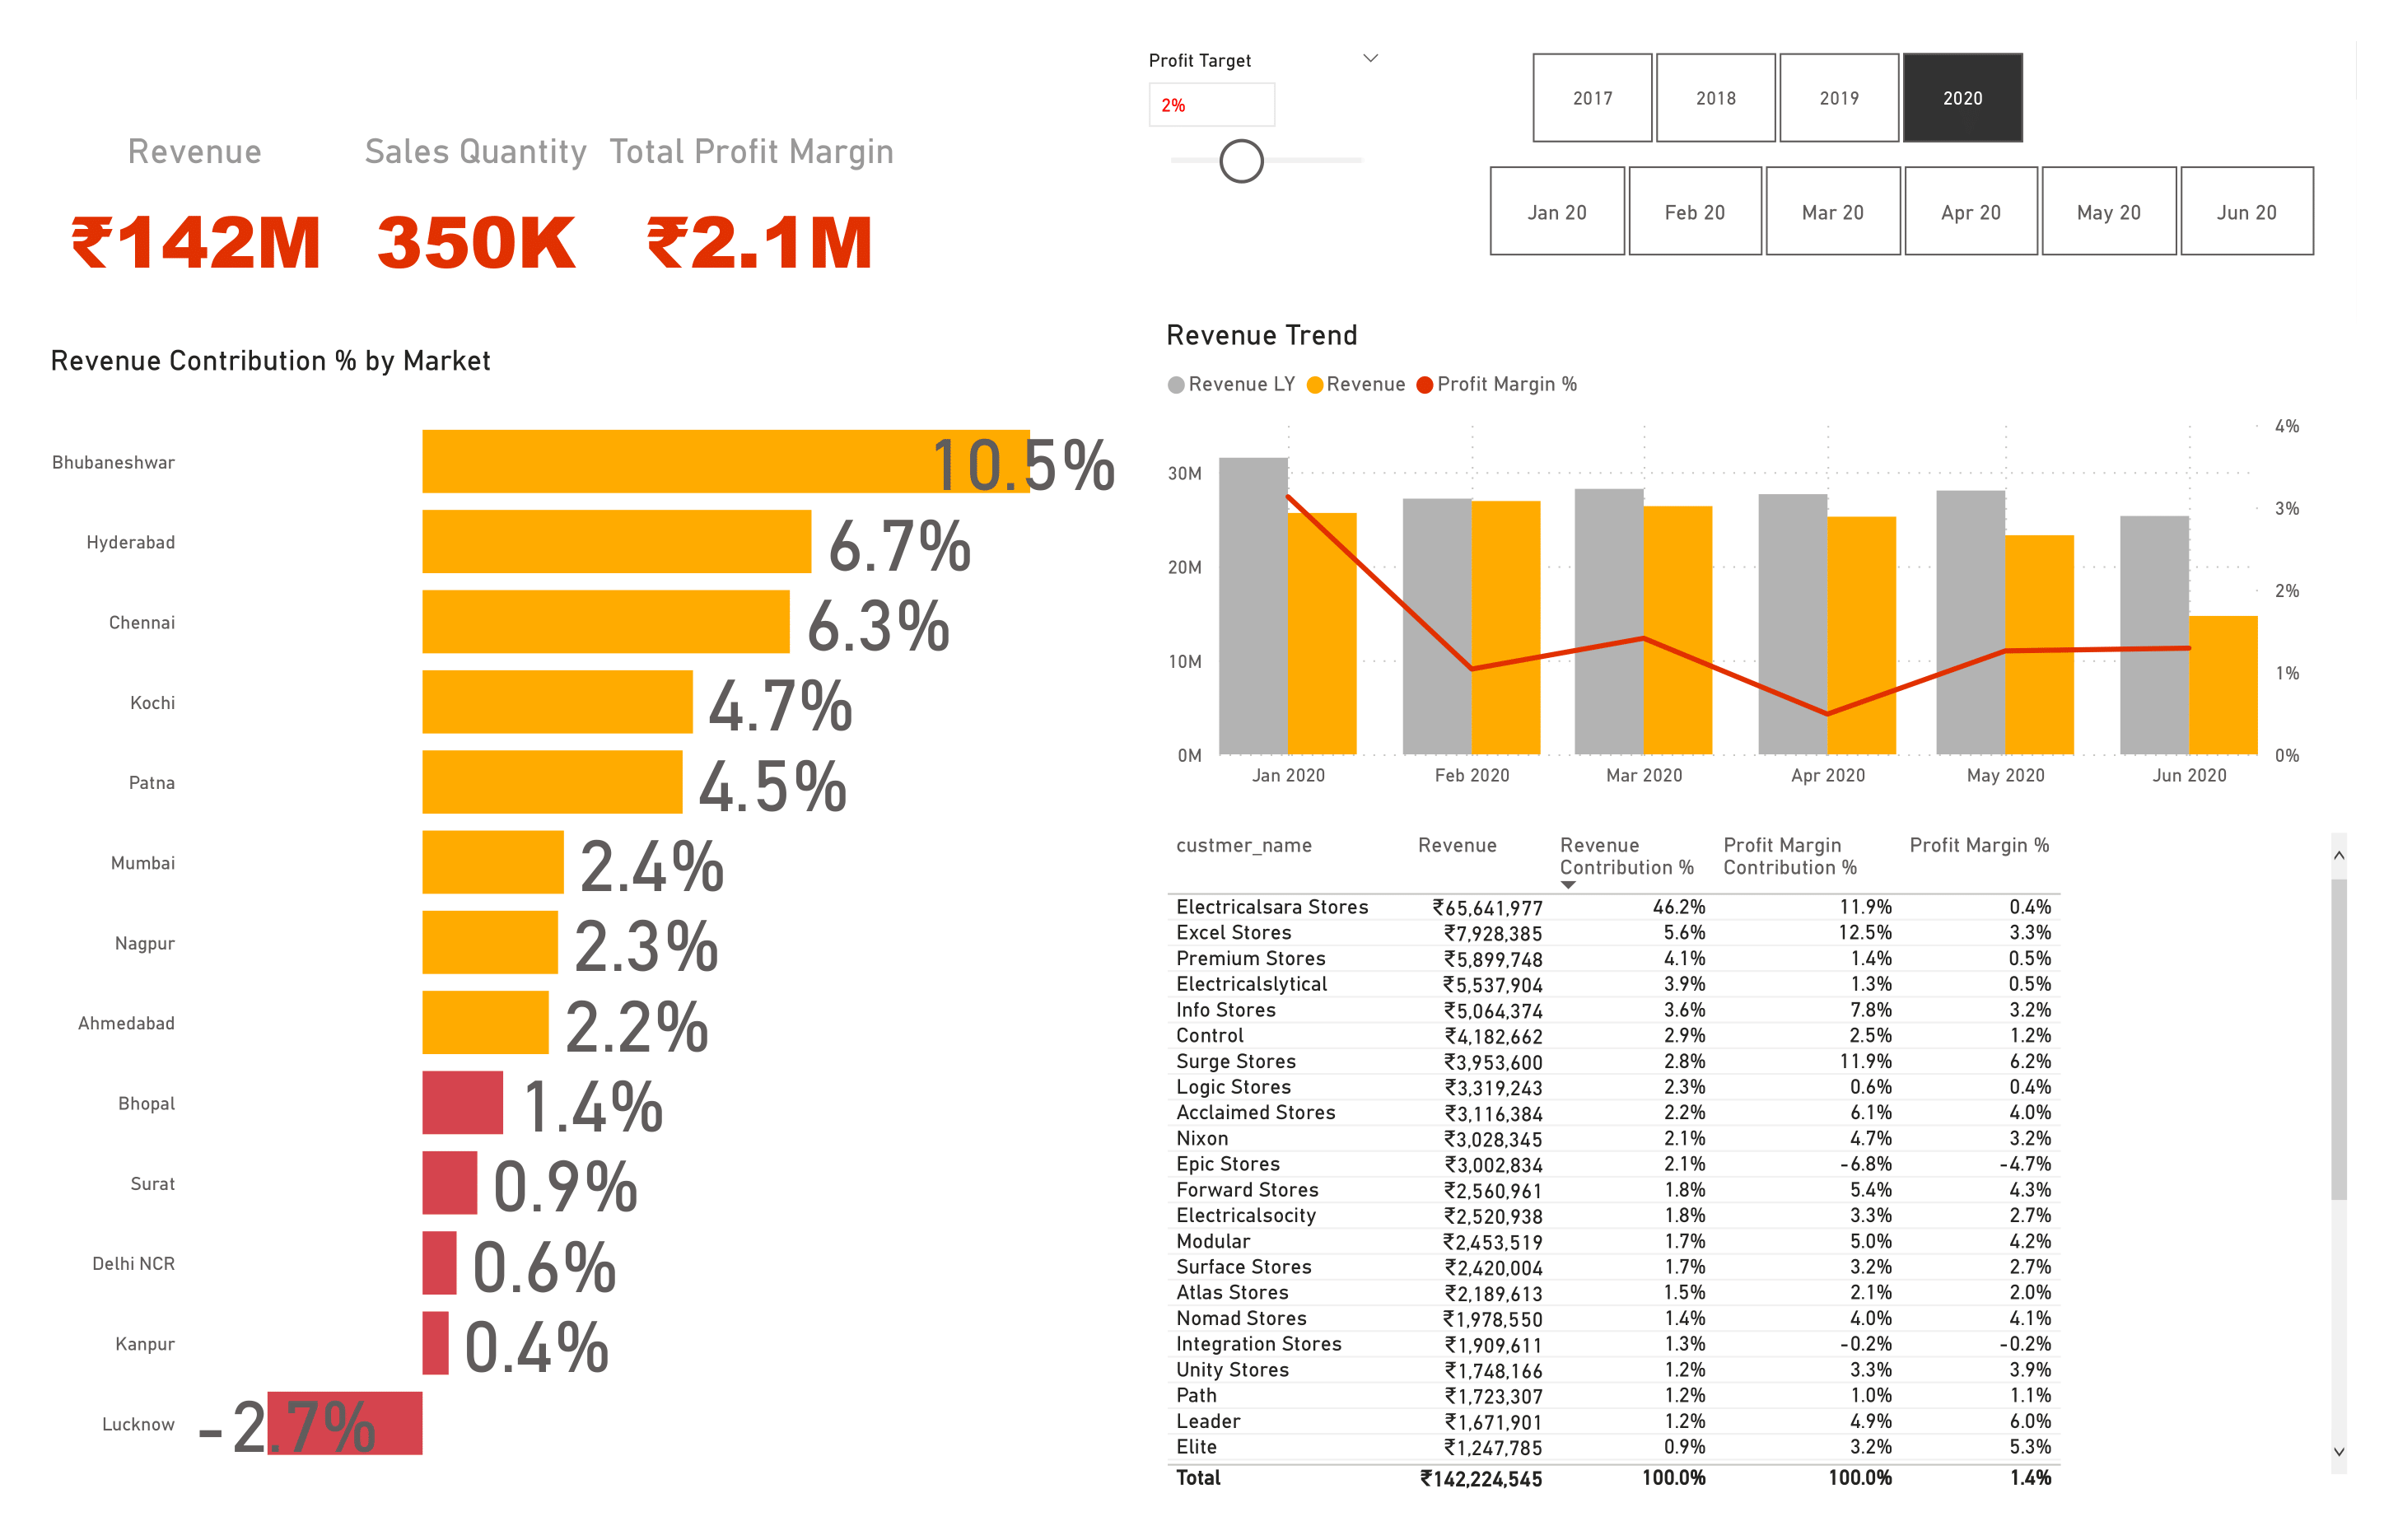

Layout of this report page (visuals, bound fields, positions):
{"tool":"powerbi","page":{"name":"Performance Insights","canvas":[1350,850],"ordinal":2},"visuals":[{"type":"slicer","fields":{"Values":["sales date.year"]},"box":[844.4,0,335.5,66.1],"z":2000},{"type":"slicer","fields":{"Values":["sales date.cy_date"]},"box":[818.6,66.1,531.6,66.1],"z":3000},{"type":"tableEx","title":"Top 5 Customers","fields":{"Values":["sales customers.custmer_name","BaseMeasures (2).Revenue","BaseMeasures (2).Revenue Contribution %","BaseMeasures (2).Profit Margin Contribution %","BaseMeasures (2).Profit Margin %"]},"box":[651.4,457.3,698.8,392.3],"z":4000},{"type":"lineClusteredColumnComboChart","title":"Revenue Trend","fields":{"Category":["sales date.cy_date"],"Y":["BaseMeasures (2).Revenue LY","BaseMeasures (2).Revenue"],"Y2":["BaseMeasures (2).Profit Margin %"]},"box":[651.4,161,672,281.8],"z":5000},{"type":"barChart","title":"Revenue Contribution % by Market","fields":{"Y":["BaseMeasures (2).Profit Margin %"],"Category":["sales markets.zone","sales markets.markets_name","sales customers.custmer_name","sales products.product_code"]},"box":[0,176.3,633.4,673],"z":7000},{"type":"slicer","fields":{"Values":["Profit Target.Profit Target"]},"box":[633.4,0,159.7,131.5],"z":8000},{"type":"card","title":"Revenue","fields":{"Values":["BaseMeasures (2).Revenue"]},"box":[0,52.1,179.5,104.2],"z":8001},{"type":"card","title":"Sales Quantity","fields":{"Values":["BaseMeasures (2).Sales Qty"]},"box":[170.8,52.1,165,104.2],"z":8002},{"type":"card","title":"Total Profit Margin","fields":{"Values":["BaseMeasures (2).Total Profit Margin"]},"box":[325.6,52.1,185.2,104.2],"z":8003}]}

Visuals, with their boxes on the page's 1350x850 design canvas (x1, y1, x2, y2). These are canvas units, not pixel positions in the 2398x1540 screenshot, which may show the page scaled, cropped or inside an application window:
slicer - sales date.year: x1=844 y1=0 x2=1180 y2=66
slicer - sales date.cy_date: x1=819 y1=66 x2=1350 y2=132
"Top 5 Customers" tableEx: x1=651 y1=457 x2=1350 y2=850
"Revenue Trend" lineClusteredColumnComboChart: x1=651 y1=161 x2=1323 y2=443
"Revenue Contribution % by Market" barChart: x1=0 y1=176 x2=633 y2=849
slicer - Profit Target.Profit Target: x1=633 y1=0 x2=793 y2=132
"Revenue" card: x1=0 y1=52 x2=180 y2=156
"Sales Quantity" card: x1=171 y1=52 x2=336 y2=156
"Total Profit Margin" card: x1=326 y1=52 x2=511 y2=156
